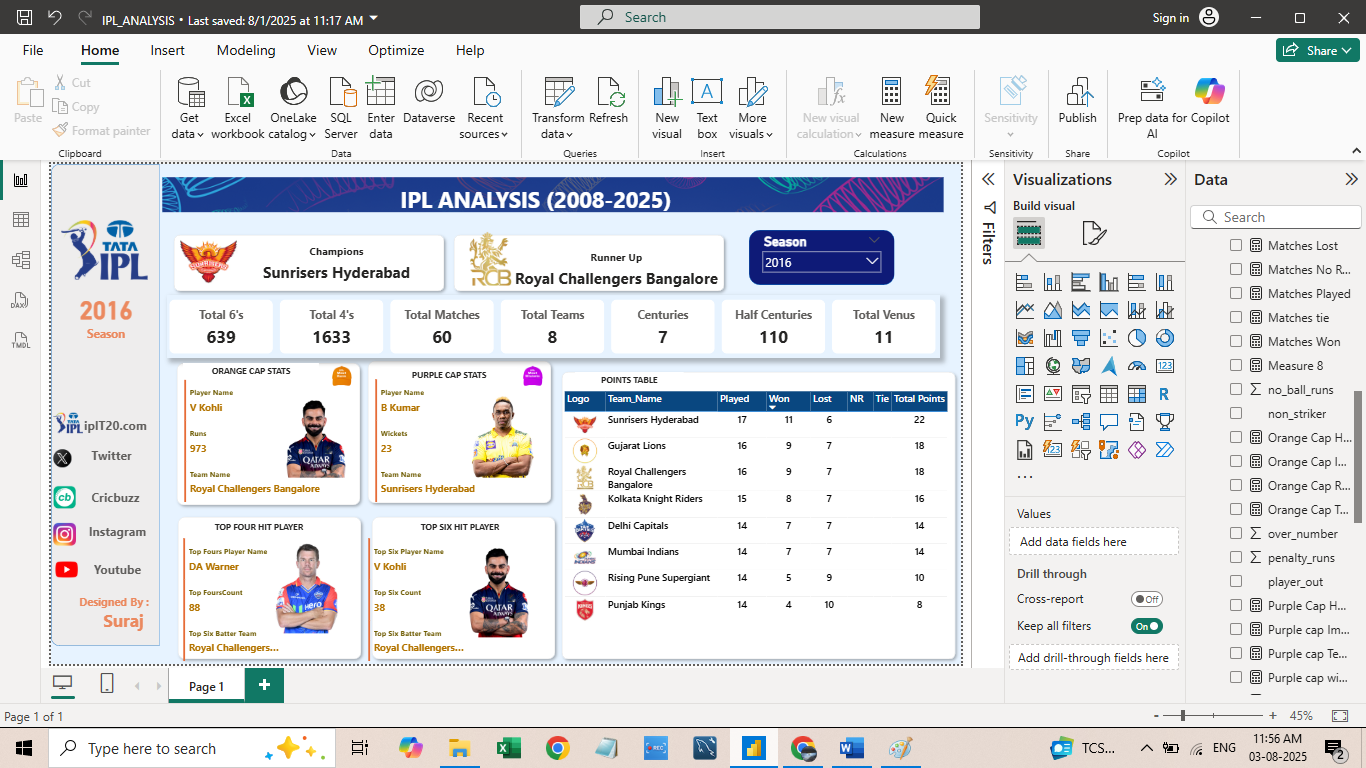

The dashboard page shown, as its layout file describes it:
{"tool":"powerbi","page":{"name":"Page 1","canvas":[2000,1100],"ordinal":0},"visuals":[{"type":"shape","box":[1535.4,144.4,320.2,120.7],"z":0},{"type":"shape","box":[1112.9,446.2,887.1,653.5],"z":1000},{"type":"shape","box":[266.2,426.8,424.6,334.4],"z":2000},{"type":"shape","box":[686.4,422.4,424.6,334.4],"z":3000},{"type":"shape","box":[875.6,145.2,616,145.2],"z":4000},{"type":"shape","box":[259.6,145.2,616,145.2],"z":5000},{"type":"image","box":[239.8,22,1729.2,90.2],"z":6000},{"type":"shape","box":[0,0,238.8,1060.4],"z":7000},{"type":"textbox","box":[741.4,39.6,651.2,88],"z":8000},{"type":"slicer","fields":{"Values":["ipl_matches_data.season"]},"box":[1556.4,147,280.8,118.1],"z":9000},{"type":"cardVisual","fields":{"Data":["ipl_matches_data.Season Winner"]},"box":[380.6,158.4,495,118.8],"z":10000},{"type":"cardVisual","fields":{"Data":["ipl_matches_data.Season Winner Logo"]},"box":[259.6,127.6,160.6,154],"z":11000},{"type":"cardVisual","fields":{"Data":["ipl_matches_data.Runner Up"]},"box":[996.6,171.6,495,118.8],"z":12000},{"type":"cardVisual","fields":{"Data":["ball_by_ball_data.Runnerup Logo"]},"box":[875.6,127.6,158.4,145.2],"z":13000},{"type":"cardVisual","fields":{"Data":["ball_by_ball_data.Total 6's","ball_by_ball_data.Total 4's","ball_by_ball_data.Total Matches","ball_by_ball_data.Total Teams","ball_by_ball_data.Centuries","ball_by_ball_data.Half Centuries","ball_by_ball_data.Total Venus"]},"box":[254.6,288.7,1700.8,139.1],"z":14000},{"type":"cardVisual","fields":{"Data":["ball_by_ball_data.Orange Cap Holder","ball_by_ball_data.Orange Cap Runs","ball_by_ball_data.Orange Cap Team Name"]},"box":[288.2,468.6,341,281.6],"z":15000},{"type":"textbox","box":[290.4,437.8,299.2,37.4],"z":16000},{"type":"cardVisual","fields":{"Data":["ball_by_ball_data.Orange Cap Image"]},"box":[457.6,495,250.8,200.2],"z":17000},{"type":"image","box":[589.6,437.8,101.2,57.2],"z":18000},{"type":"shape","box":[268.4,765.6,424.6,334.4],"z":19000},{"type":"shape","box":[695.2,765.6,424.6,334.4],"z":20000},{"type":"cardVisual","fields":{"Data":["ball_by_ball_data.Purple Cap Holder","ball_by_ball_data.Purple cap wicket","ball_by_ball_data.Purple cap Team"]},"box":[708.4,468.6,341,281.6],"z":21000},{"type":"textbox","box":[726,446.6,299.2,37.4],"z":22000},{"type":"cardVisual","fields":{"Data":["ball_by_ball_data.Purple cap Image"]},"box":[871.2,484,250.8,211.2],"z":23000},{"type":"image","box":[1009.8,437.8,101.2,57.2],"z":24000},{"type":"cardVisual","fields":{"Data":["ball_by_ball_data.Top Fours Player Name","ball_by_ball_data.Top FoursCount","ball_by_ball_data.Top Fours Batter Team"]},"box":[286,818.4,244.2,281.6],"z":25000},{"type":"textbox","box":[308,781,299.2,37.4],"z":26000},{"type":"cardVisual","fields":{"Data":["ball_by_ball_data.Top Fours Player Image"]},"box":[442.2,809.6,250.8,246.4],"z":27000},{"type":"cardVisual","fields":{"Data":["ball_by_ball_data.Top Six Player Name","ball_by_ball_data.Top Six Count","ball_by_ball_data.Top Six Batter Team"]},"box":[693,818.4,244.2,281.6],"z":28000},{"type":"textbox","box":[750.2,781,299.2,37.4],"z":29000},{"type":"cardVisual","fields":{"Data":["ball_by_ball_data.Top Six Player Image"]},"box":[860.2,818.4,250.8,246.4],"z":30000},{"type":"tableEx","fields":{"Values":["teams_data.image_url","teams_data.team_name","ball_by_ball_data.Matches Played","ball_by_ball_data.Matches Won","ball_by_ball_data.Matches Lost","ball_by_ball_data.Matches No Result","ball_by_ball_data.Matches tie","ball_by_ball_data.Total Points"]},"box":[1123.4,496.1,876.6,593.2],"z":31000},{"type":"textbox","box":[1152.2,456.7,238.8,39.4],"z":32000},{"type":"image","box":[0,519.7,75,100],"z":33000},{"type":"card","fields":{"Values":["ball_by_ball_data.Season"]},"box":[47.2,265.1,149.6,136.5],"z":34000},{"type":"actionButton","box":[47.2,530.2,191.6,89.2],"z":35000},{"type":"image","box":[18.4,39.4,200,299.2],"z":36000},{"type":"image","box":[0,608.9,50,76.1],"z":37000},{"type":"actionButton","box":[36.7,595.8,191.6,89.2],"z":38000},{"type":"image","box":[0,695.5,60,75],"z":39000},{"type":"actionButton","box":[47.2,687.7,191.6,89.2],"z":40000},{"type":"image","box":[0,776.9,60.4,76.1],"z":41000},{"type":"actionButton","box":[49.9,763.8,191.6,89.2],"z":42000},{"type":"image","box":[5.2,853,60.4,76.1],"z":43000},{"type":"actionButton","box":[49.9,847.8,191.6,89.2],"z":44000},{"type":"textbox","box":[57.7,942.3,168,126],"z":45000}]}

Visuals, with their boxes on the page's 2000x1100 design canvas (x1, y1, x2, y2). These are canvas units, not pixel positions in the 1366x768 screenshot, which may show the page scaled, cropped or inside an application window:
shape: {"x1": 1535, "y1": 144, "x2": 1856, "y2": 265}
shape: {"x1": 1113, "y1": 446, "x2": 2000, "y2": 1100}
shape: {"x1": 266, "y1": 427, "x2": 691, "y2": 761}
shape: {"x1": 686, "y1": 422, "x2": 1111, "y2": 757}
shape: {"x1": 876, "y1": 145, "x2": 1492, "y2": 290}
shape: {"x1": 260, "y1": 145, "x2": 876, "y2": 290}
image: {"x1": 240, "y1": 22, "x2": 1969, "y2": 112}
shape: {"x1": 0, "y1": 0, "x2": 239, "y2": 1060}
textbox: {"x1": 741, "y1": 40, "x2": 1393, "y2": 128}
slicer - ipl_matches_data.season: {"x1": 1556, "y1": 147, "x2": 1837, "y2": 265}
cardVisual - ipl_matches_data.Season Winner: {"x1": 381, "y1": 158, "x2": 876, "y2": 277}
cardVisual - ipl_matches_data.Season Winner Logo: {"x1": 260, "y1": 128, "x2": 420, "y2": 282}
cardVisual - ipl_matches_data.Runner Up: {"x1": 997, "y1": 172, "x2": 1492, "y2": 290}
cardVisual - ball_by_ball_data.Runnerup Logo: {"x1": 876, "y1": 128, "x2": 1034, "y2": 273}
cardVisual - ball_by_ball_data.Total 6's x ball_by_ball_data.Total 4's: {"x1": 255, "y1": 289, "x2": 1955, "y2": 428}
cardVisual - ball_by_ball_data.Orange Cap Holder x ball_by_ball_data.Orange Cap Runs: {"x1": 288, "y1": 469, "x2": 629, "y2": 750}
textbox: {"x1": 290, "y1": 438, "x2": 590, "y2": 475}
cardVisual - ball_by_ball_data.Orange Cap Image: {"x1": 458, "y1": 495, "x2": 708, "y2": 695}
image: {"x1": 590, "y1": 438, "x2": 691, "y2": 495}
shape: {"x1": 268, "y1": 766, "x2": 693, "y2": 1100}
shape: {"x1": 695, "y1": 766, "x2": 1120, "y2": 1100}
cardVisual - ball_by_ball_data.Purple Cap Holder x ball_by_ball_data.Purple cap wicket: {"x1": 708, "y1": 469, "x2": 1049, "y2": 750}
textbox: {"x1": 726, "y1": 447, "x2": 1025, "y2": 484}
cardVisual - ball_by_ball_data.Purple cap Image: {"x1": 871, "y1": 484, "x2": 1122, "y2": 695}
image: {"x1": 1010, "y1": 438, "x2": 1111, "y2": 495}
cardVisual - ball_by_ball_data.Top Fours Player Name x ball_by_ball_data.Top FoursCount: {"x1": 286, "y1": 818, "x2": 530, "y2": 1100}
textbox: {"x1": 308, "y1": 781, "x2": 607, "y2": 818}
cardVisual - ball_by_ball_data.Top Fours Player Image: {"x1": 442, "y1": 810, "x2": 693, "y2": 1056}
cardVisual - ball_by_ball_data.Top Six Player Name x ball_by_ball_data.Top Six Count: {"x1": 693, "y1": 818, "x2": 937, "y2": 1100}
textbox: {"x1": 750, "y1": 781, "x2": 1049, "y2": 818}
cardVisual - ball_by_ball_data.Top Six Player Image: {"x1": 860, "y1": 818, "x2": 1111, "y2": 1065}
tableEx - teams_data.image_url x teams_data.team_name: {"x1": 1123, "y1": 496, "x2": 2000, "y2": 1089}
textbox: {"x1": 1152, "y1": 457, "x2": 1391, "y2": 496}
image: {"x1": 0, "y1": 520, "x2": 75, "y2": 620}
card - ball_by_ball_data.Season: {"x1": 47, "y1": 265, "x2": 197, "y2": 402}
actionButton: {"x1": 47, "y1": 530, "x2": 239, "y2": 619}
image: {"x1": 18, "y1": 39, "x2": 218, "y2": 339}
image: {"x1": 0, "y1": 609, "x2": 50, "y2": 685}
actionButton: {"x1": 37, "y1": 596, "x2": 228, "y2": 685}
image: {"x1": 0, "y1": 696, "x2": 60, "y2": 770}
actionButton: {"x1": 47, "y1": 688, "x2": 239, "y2": 777}
image: {"x1": 0, "y1": 777, "x2": 60, "y2": 853}
actionButton: {"x1": 50, "y1": 764, "x2": 242, "y2": 853}
image: {"x1": 5, "y1": 853, "x2": 66, "y2": 929}
actionButton: {"x1": 50, "y1": 848, "x2": 242, "y2": 937}
textbox: {"x1": 58, "y1": 942, "x2": 226, "y2": 1068}
